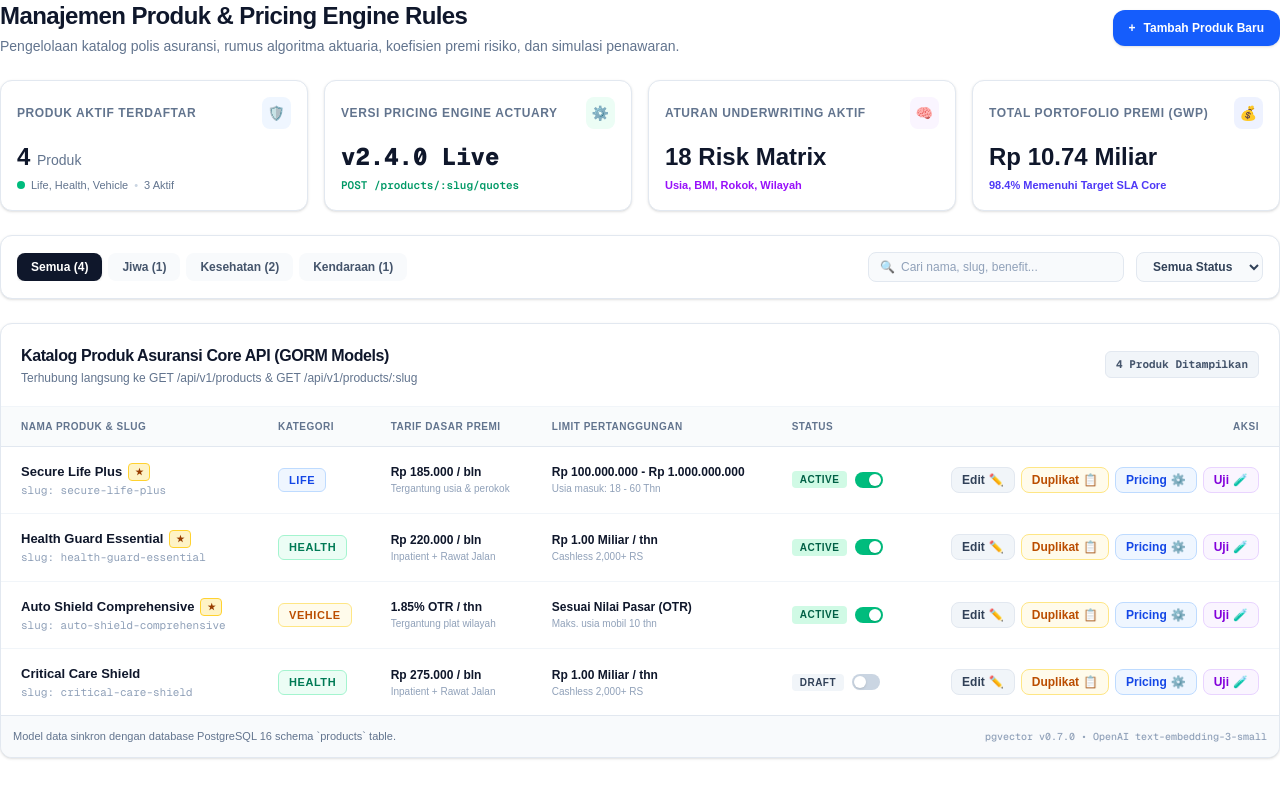
Test: ProductsPage & ProductManagementWorkbench › should open sandbox calculation modal and allow testing formulas
Click the button with aria-label "Uji di Sandbox": point(1231, 480) [1203,467,1259,493]
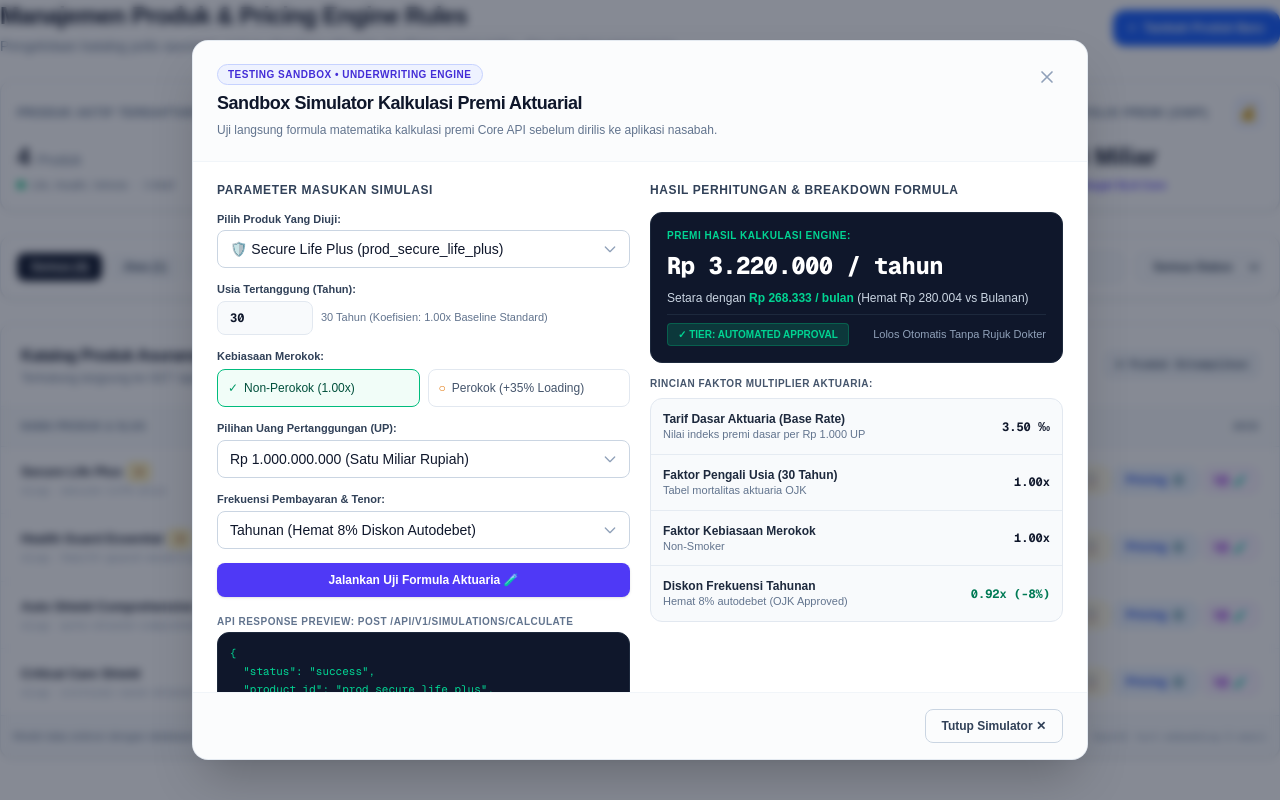
Expected: the heading "Sandbox Simulator Kalkulasi Premi Aktuarial" is shown, [217,93,582,113]
Expected: the text "API RESPONSE PREVIEW: POST /api/v1/simulations/calculate" is shown, [217,615,630,628]
Toggle smoker button
Click the button "○ Perokok (+35% Loading)": point(529, 388) [428,370,630,408]
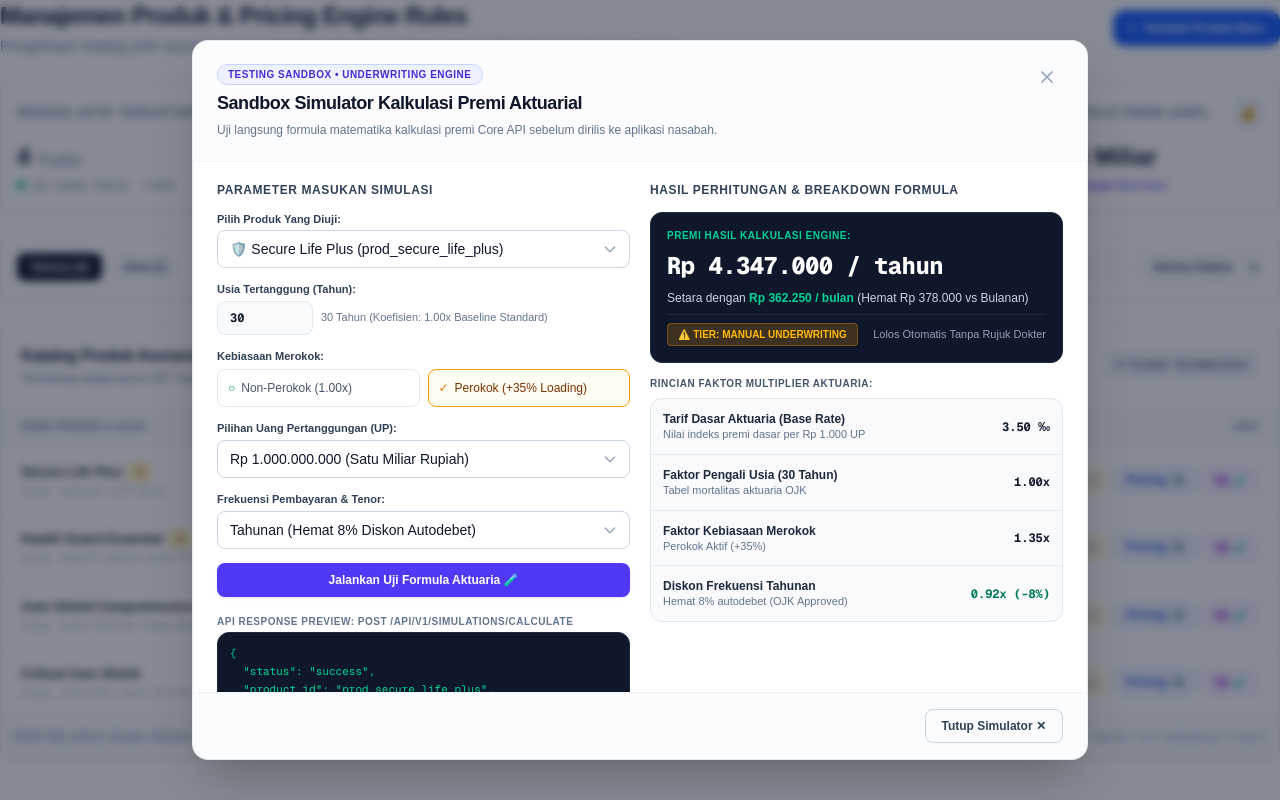
Close sandbox modal
Click the button "Tutup Simulator ✕": point(994, 726) [924,709,1063,743]
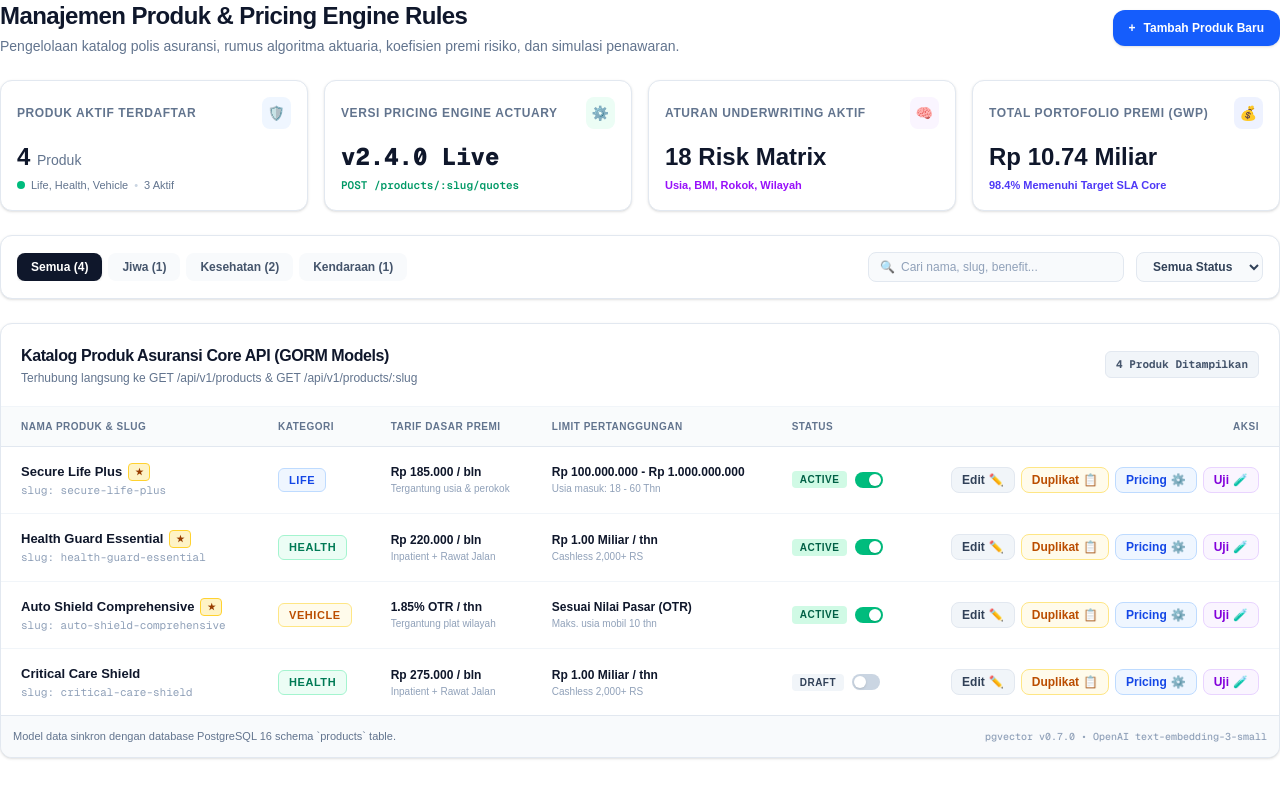
Expected: the heading "Sandbox Simulator Kalkulasi Premi Aktuarial" is gone
